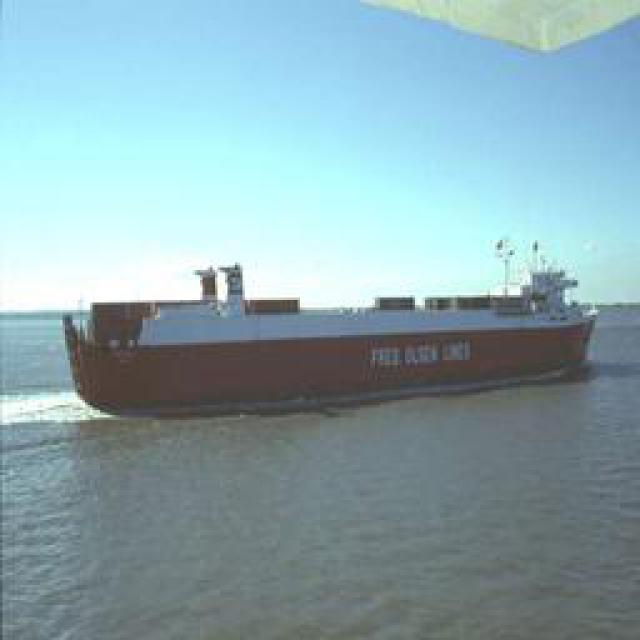Ship: (65, 255, 598, 420)
